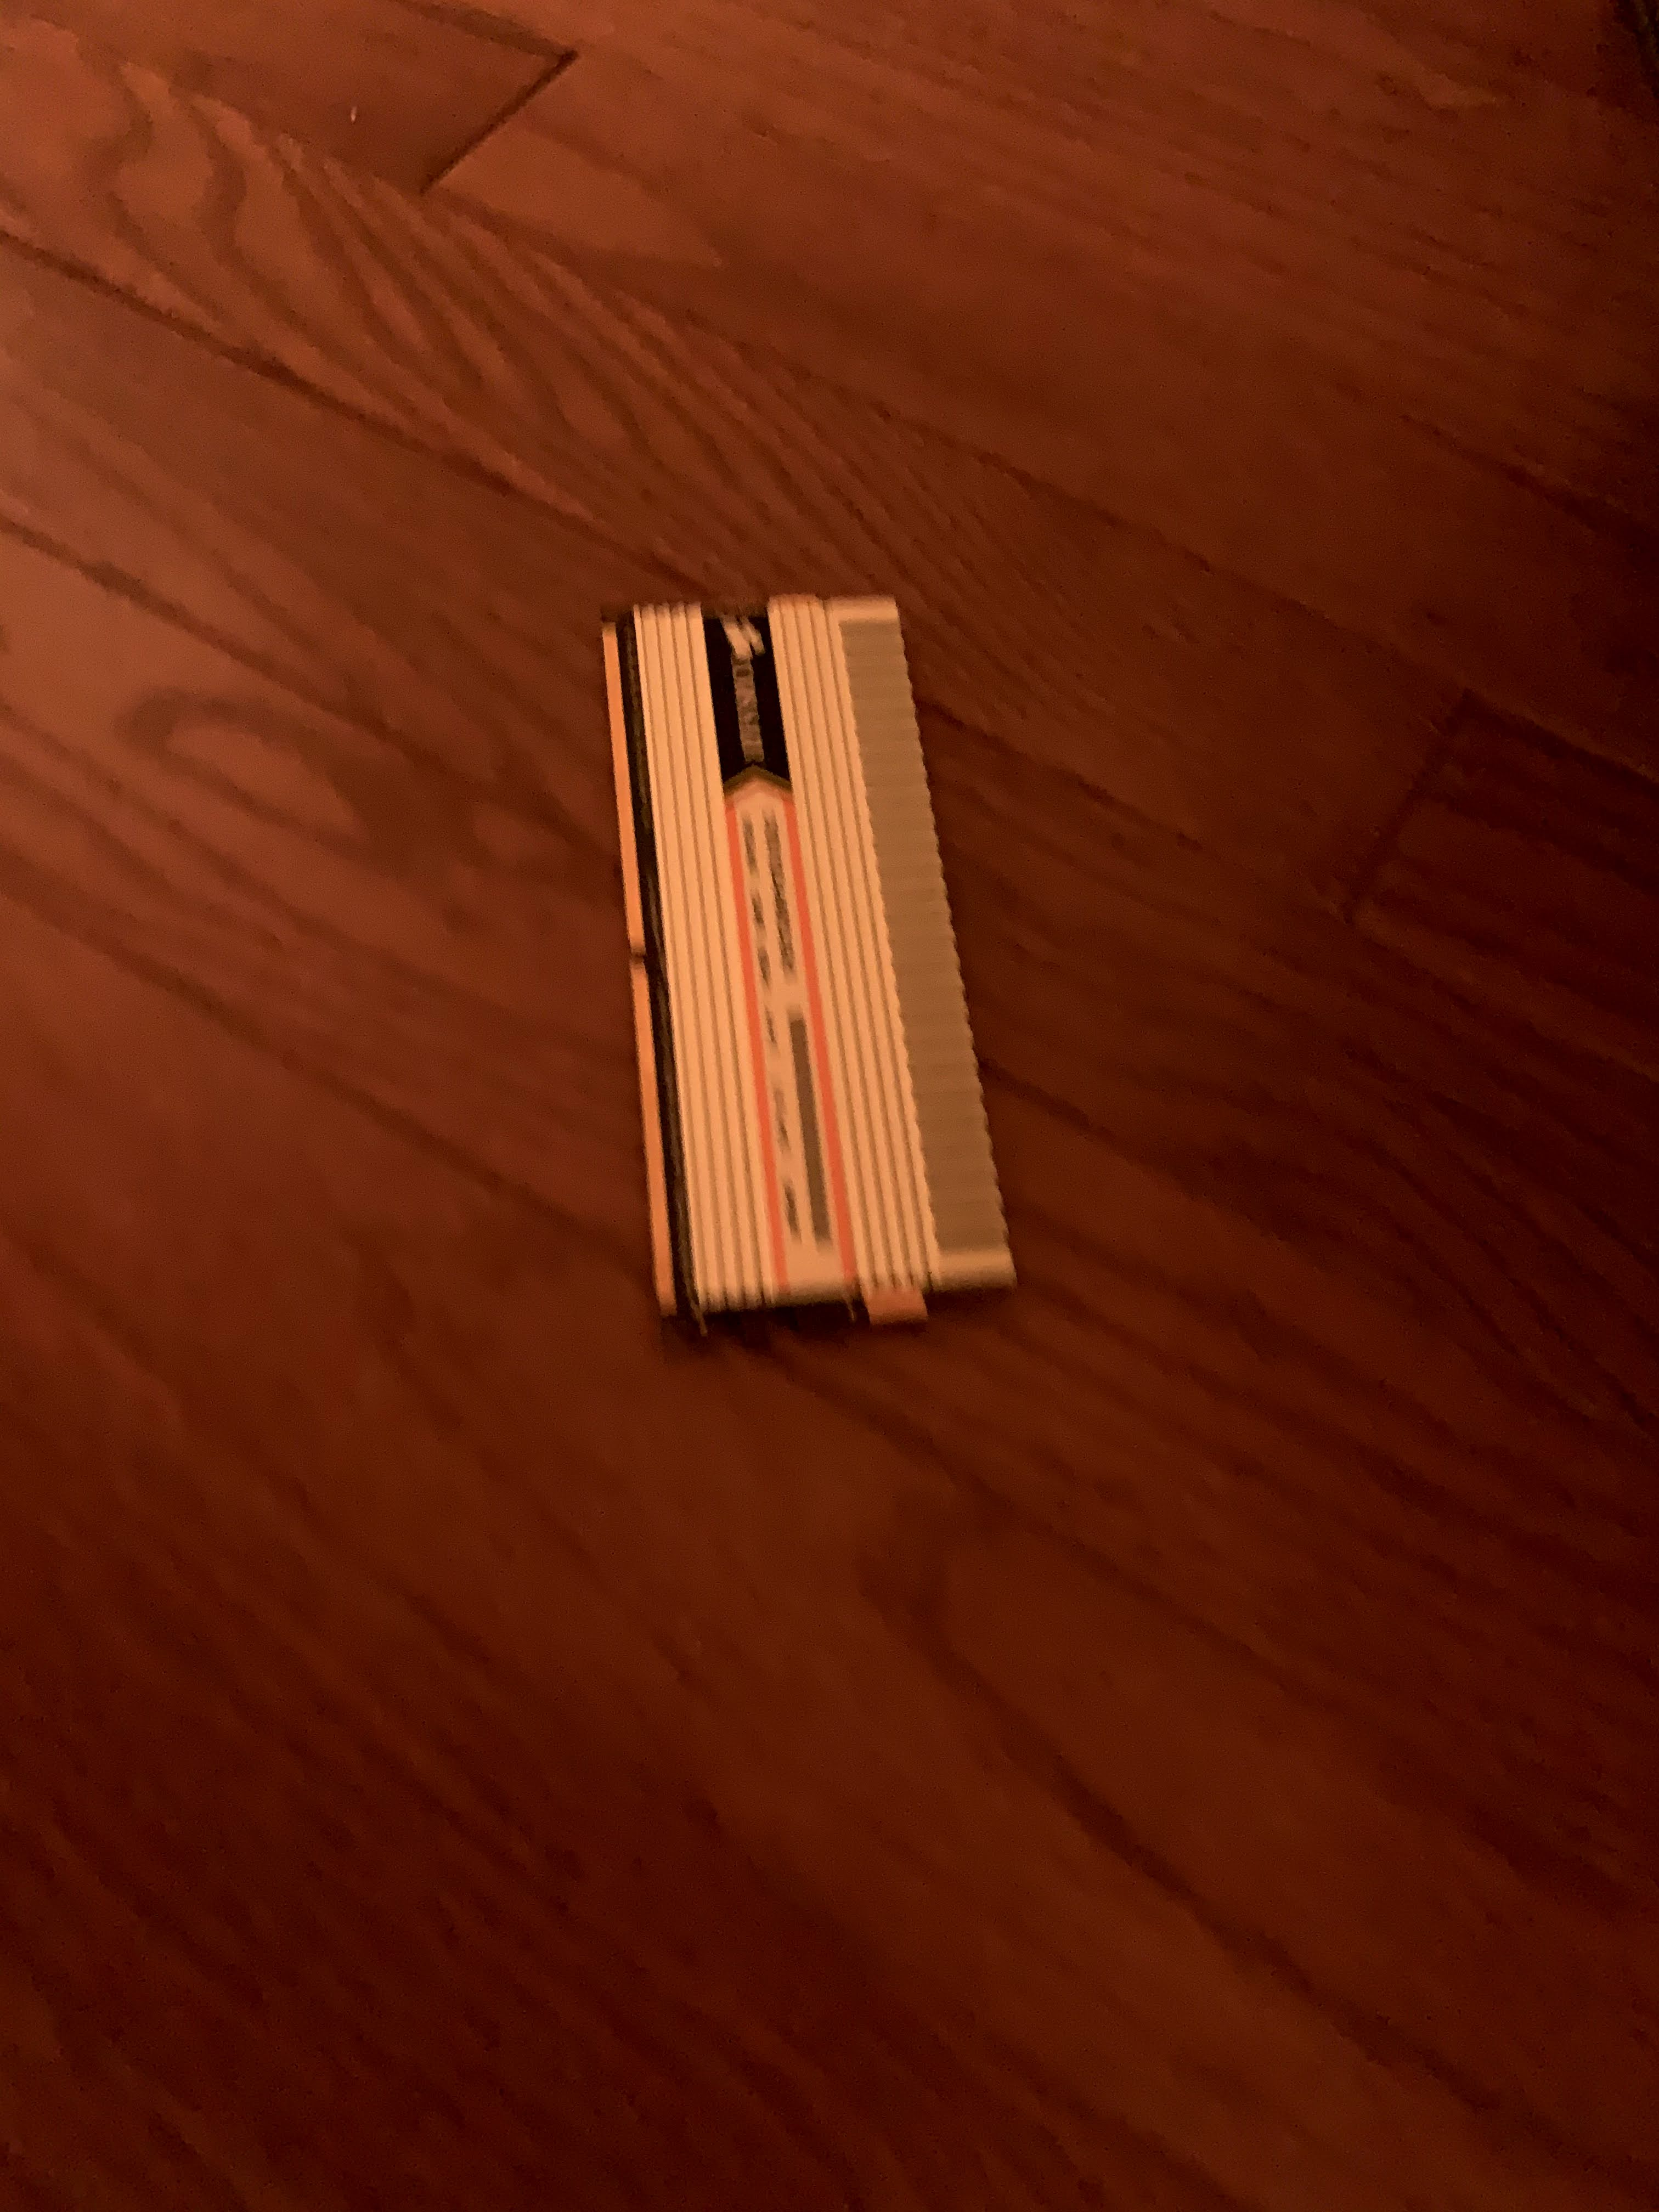Space-debris-medium: (579, 550, 1072, 1350)
